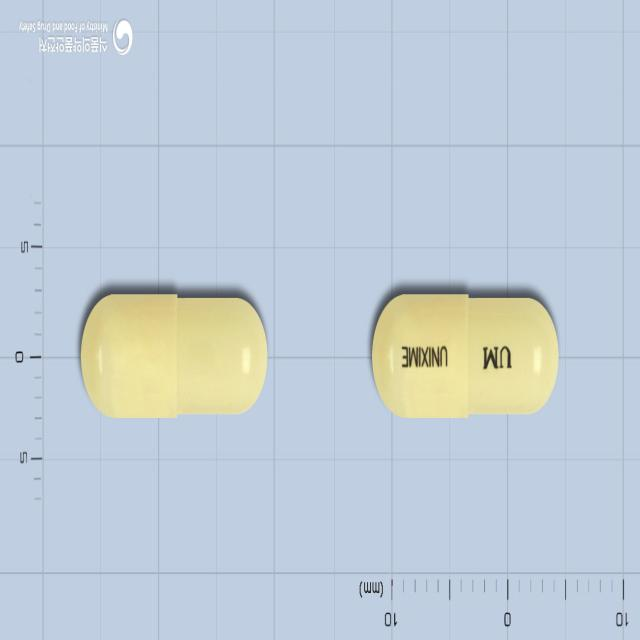Clarin: (78, 292, 268, 420), (372, 292, 558, 420)
